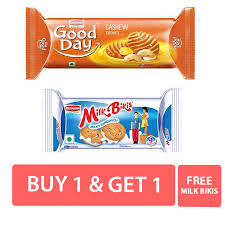gooday-small: (22, 7, 196, 76)
